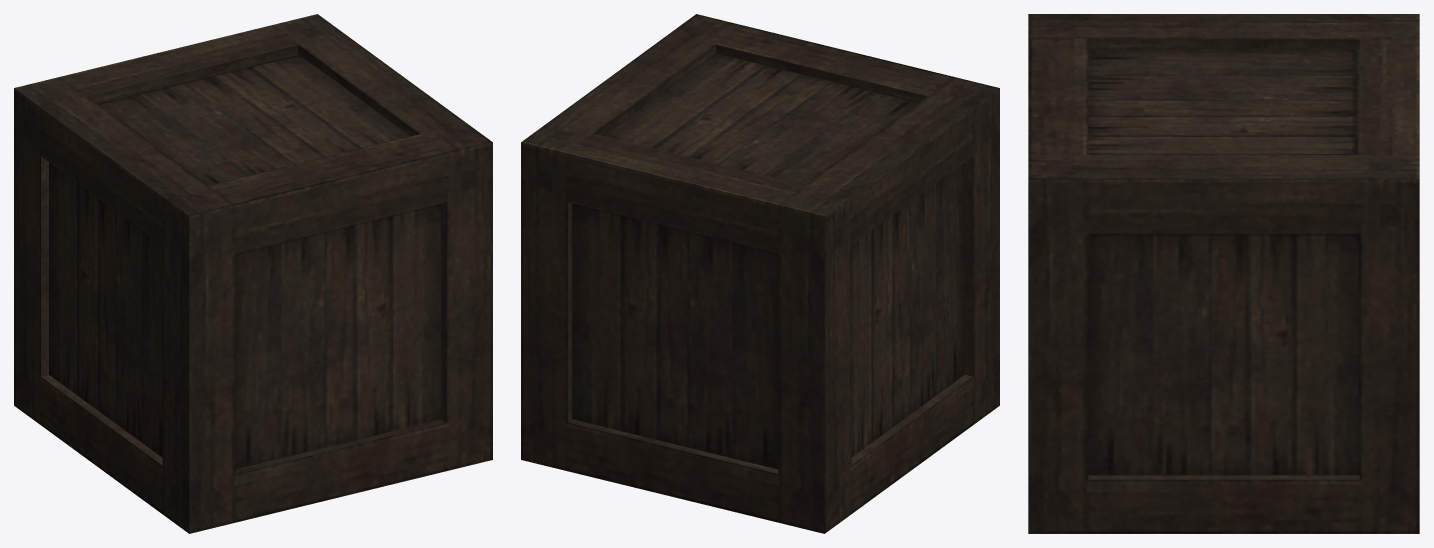
The model's file is wooden_crate_6.fbx.
3 renders of one model, left to right at view 1: azimuth 30°, elevation 25°; view 2: azimuth 150°, elevation 25°; view 3: azimuth 270°, elevation 25°, orthographic. The views are drawn at different scales.
Visible parts, largest first — view 1: wooden_crate_6; view 2: wooden_crate_6; view 3: wooden_crate_6.
Boxes of the visible parts, x1,y1,x2,y2 form: wooden_crate_6: [14, 14, 492, 533]; wooden_crate_6: [521, 14, 999, 533]; wooden_crate_6: [1028, 14, 1419, 533].
Size of the model in its own units: 0.75 by 0.75 by 0.75.
